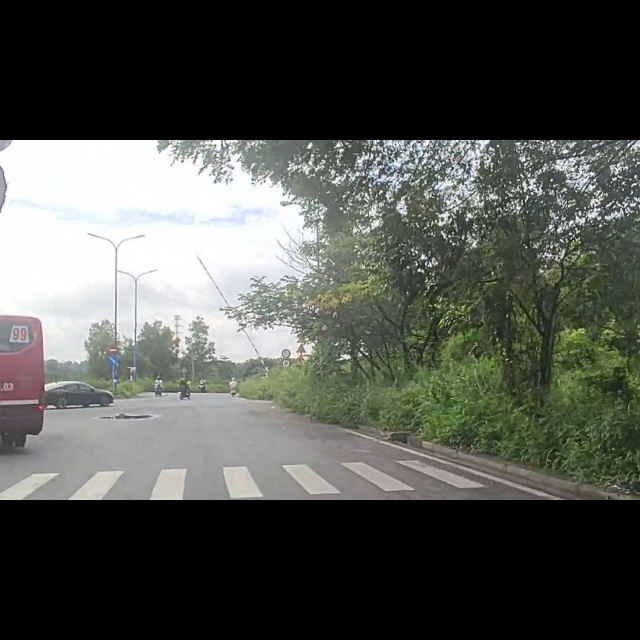bien_hieu_lenh: (107, 380, 119, 402), (296, 380, 307, 401), (108, 366, 122, 379), (282, 388, 291, 402)
